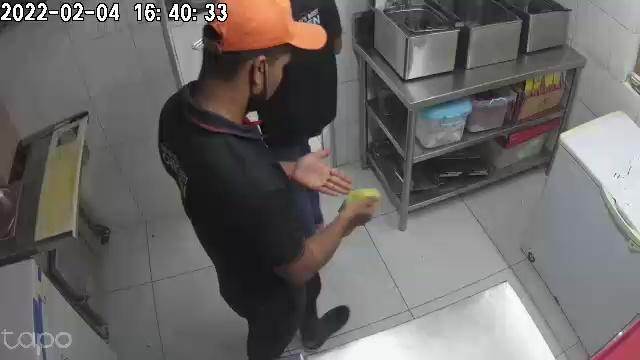no_gloves: (290, 152, 352, 198)
